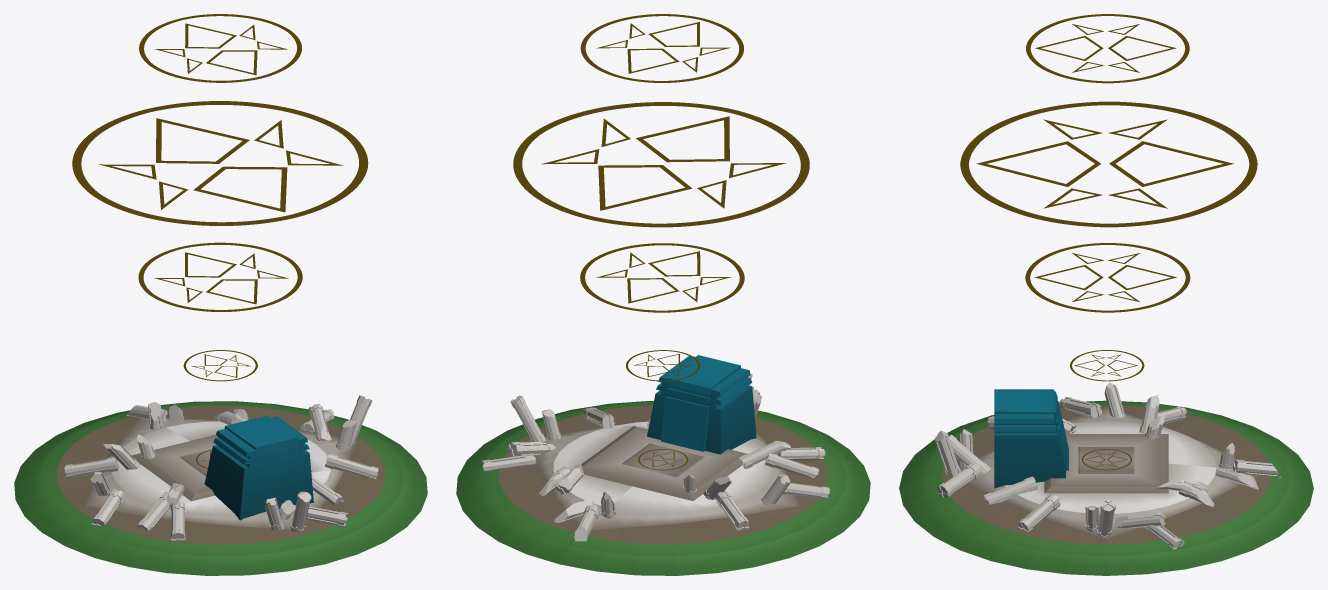
The model's file is CentralSquare.fbx.
The picture shows the model from 3 angles, left to right: view 1: azimuth 30°, elevation 25°; view 2: azimuth 150°, elevation 25°; view 3: azimuth 270°, elevation 25°; orthographic projection.
Parts seen in each view (by area): view 1: path26.001; view 2: path26.001; view 3: path26.001.
Boxes of the visible parts, left/top/right/bottom form: path26.001: left=14, top=14, right=427, bottom=575; path26.001: left=456, top=14, right=870, bottom=575; path26.001: left=899, top=14, right=1313, bottom=575.
Bounding box in the file's own units: 1505 × 1761 × 1505.
